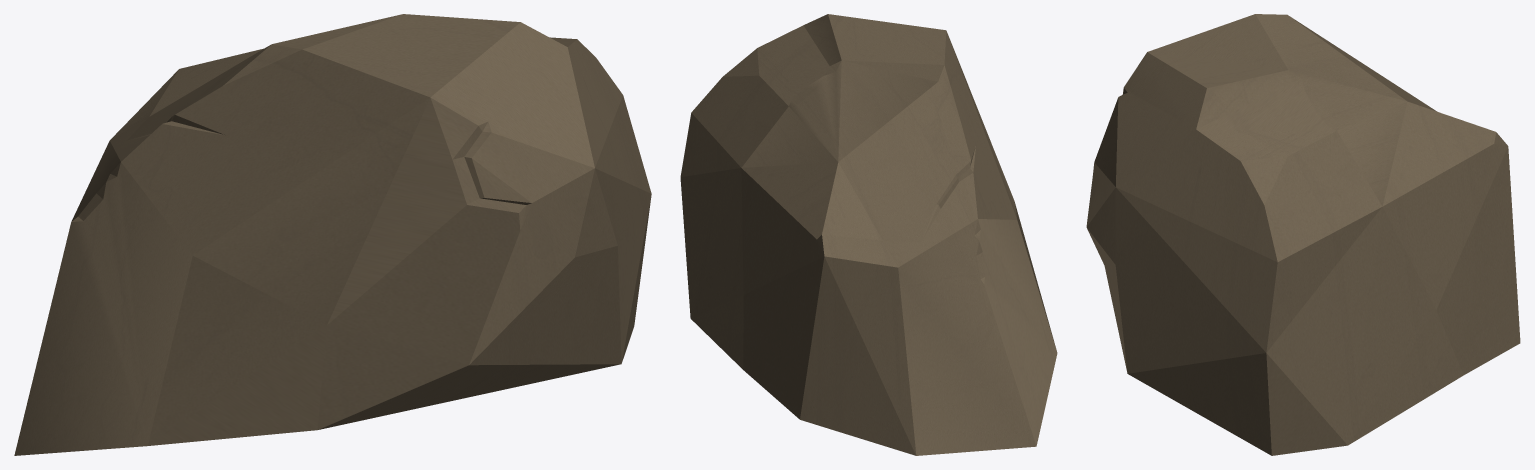
File: Tunisia Ground_Rocks_07 (1).fbx
3 views of the same model, side by side, from view 1: azimuth 30°, elevation 25°; view 2: azimuth 150°, elevation 25°; view 3: azimuth 270°, elevation 25° (orthographic). The views are drawn at different scales.
Visible parts, largest first — view 1: Tunisia Ground_Rocks_07.004; view 2: Tunisia Ground_Rocks_07.004; view 3: Tunisia Ground_Rocks_07.004.
Boxes of the visible parts, x1,y1,x2,y2 form: Tunisia Ground_Rocks_07.004: (14,14,651,455); Tunisia Ground_Rocks_07.004: (680,14,1057,455); Tunisia Ground_Rocks_07.004: (1086,14,1520,455).
Bounding box in the file's own units: 207 × 148 × 167.
